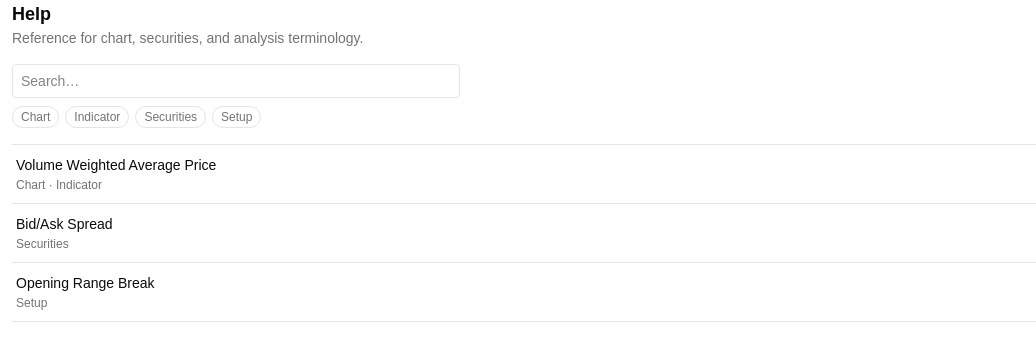
it: Help route — list › renders the no-matches state when filters exclude every entry
Expected: the text "Volume Weighted Average Price" is shown, [16,157,216,173]
In the search field named "search help": (236, 81) [12,64,460,98], type "xyzzy"
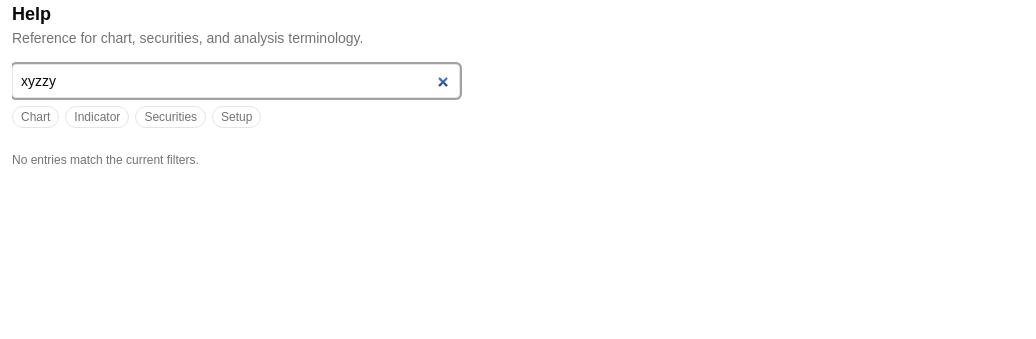
Now the text "No entries match the current filters." is shown, box [12,153,199,167]
